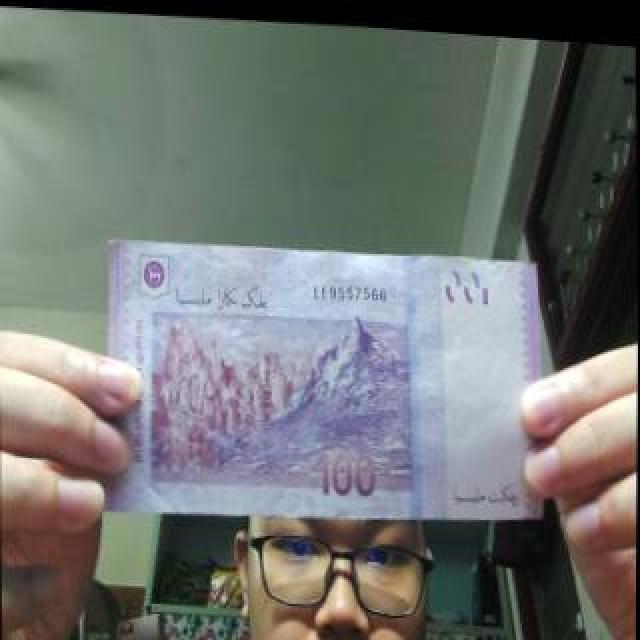100 Ringgit: (94, 232, 560, 537)
